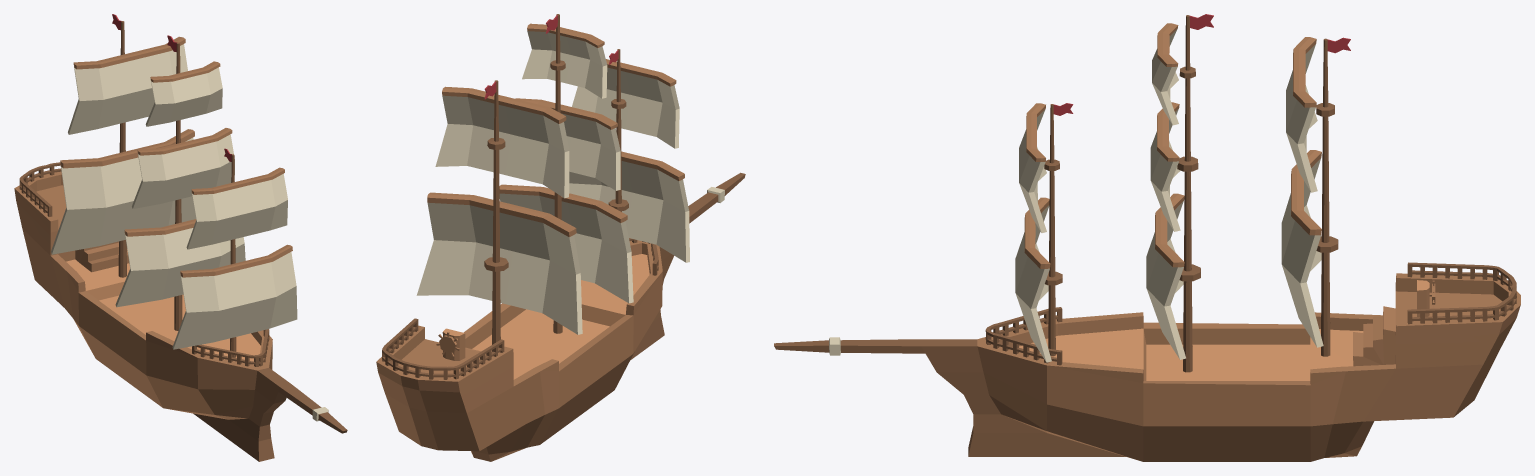
File: ship.fbx
3 renders of one model, left to right at view 1: azimuth 30°, elevation 25°; view 2: azimuth 150°, elevation 25°; view 3: azimuth 270°, elevation 25°, orthographic. The views are drawn at different scales.
Parts seen in each view (by area): view 1: BigShip, BackSail, MidleSail, Front Sail; view 2: BigShip, BackSail, MidleSail, Front Sail; view 3: BigShip, BackSail, MidleSail, Front Sail.
Part boxes in pixels (bbox=[...]): BigShip: bbox=[14, 14, 347, 461]; BackSail: bbox=[51, 36, 195, 254]; MidleSail: bbox=[115, 61, 245, 307]; Front Sail: bbox=[172, 167, 297, 349]; BigShip: bbox=[376, 14, 745, 461]; BackSail: bbox=[416, 86, 582, 334]; MidleSail: bbox=[499, 23, 633, 303]; Front Sail: bbox=[569, 59, 689, 262]; BigShip: bbox=[774, 14, 1520, 461]; BackSail: bbox=[1281, 37, 1323, 347]; MidleSail: bbox=[1146, 23, 1185, 359]; Front Sail: bbox=[1015, 103, 1051, 362].
Size of the model in its own units: 170 by 385 by 595.
